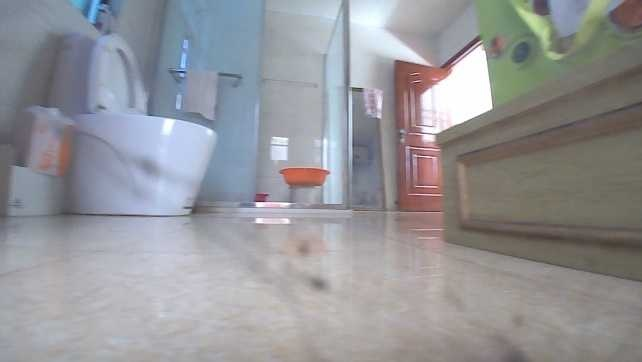toilet: (42, 26, 220, 220)
